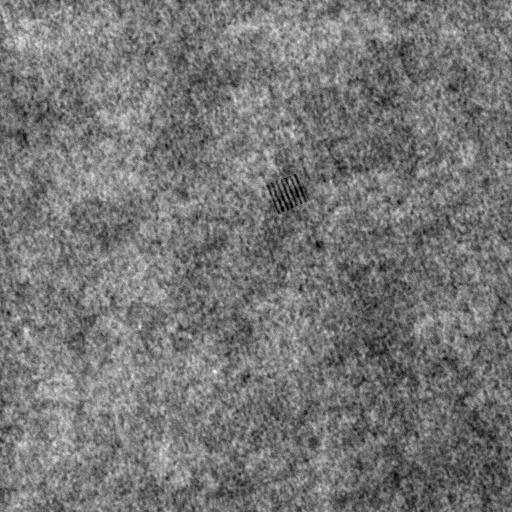DefectTypeB: (266, 174, 307, 212)
